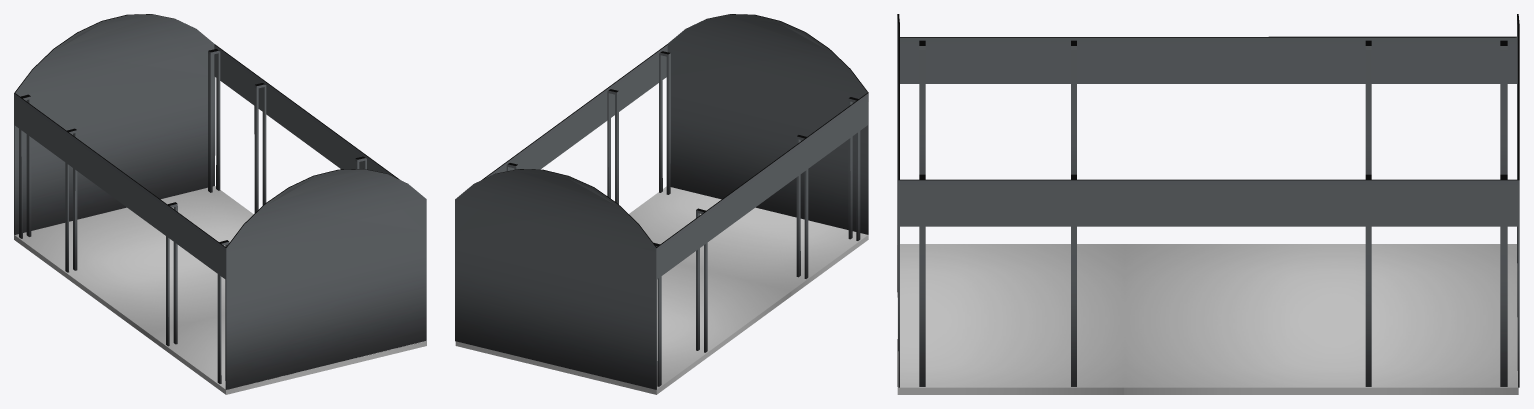
File: soulbrain_T8-waste_1.glb
The picture shows the model from 3 angles, left to right: view 1: azimuth 30°, elevation 25°; view 2: azimuth 150°, elevation 25°; view 3: azimuth 270°, elevation 25°; orthographic projection. The views are drawn at different scales.
Parts seen in each view (by area): view 1: T8-3; view 2: T8-3; view 3: T8-3.
Part boxes in pixels (x1,y1,x2,y2): T8-3: (14,14,426,394); T8-3: (455,14,868,394); T8-3: (897,14,1519,394).
Size of the model in its own units: 12.47 by 11.69 by 22.83.
3 materials, 2 textured.
